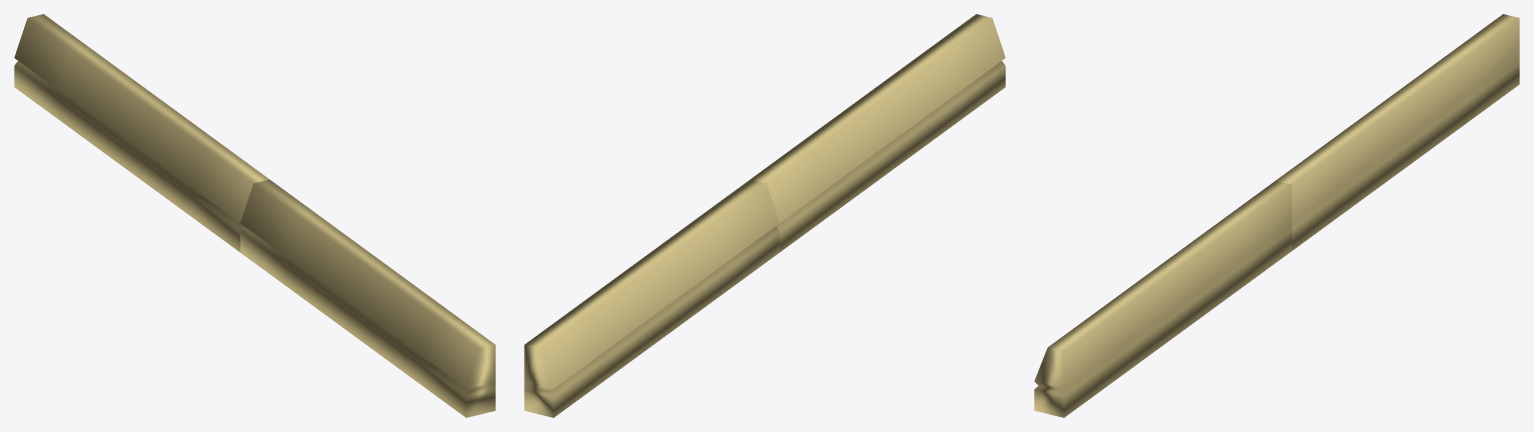
File: Wall_Orn_03_x2.fbx
3 renders of one model, left to right at view 1: azimuth 30°, elevation 25°; view 2: azimuth 150°, elevation 25°; view 3: azimuth 330°, elevation 25°, orthographic.
Parts seen in each view (by area): view 1: Wall_Orn_03_x2; view 2: Wall_Orn_03_x2; view 3: Wall_Orn_03_x2.
Part boxes in pixels (box(x1,y1,x2,y2)): Wall_Orn_03_x2: box(14, 14, 495, 417); Wall_Orn_03_x2: box(524, 14, 1005, 417); Wall_Orn_03_x2: box(1034, 14, 1519, 417).
Bounding box in the file's own units: 22.62 × 48.3 × 600.
